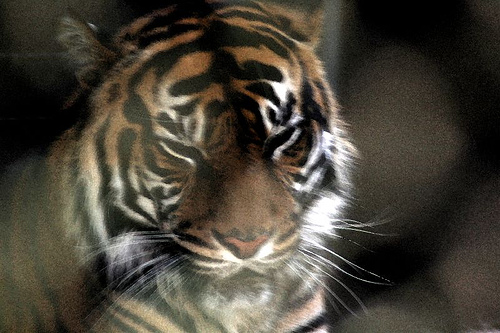Tigre: (52, 14, 384, 301)
